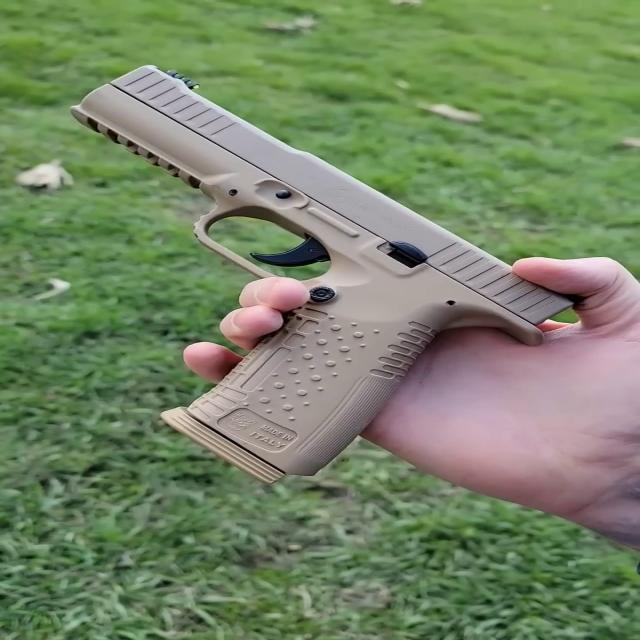Handgun: (60, 59, 587, 499)
